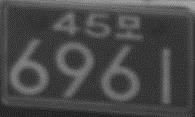1: (149, 47, 181, 105)
4: (51, 11, 80, 36)
5: (84, 11, 111, 39)
6: (99, 44, 141, 103), (9, 37, 49, 97)
9: (54, 39, 94, 98)
모: (113, 14, 145, 40)
